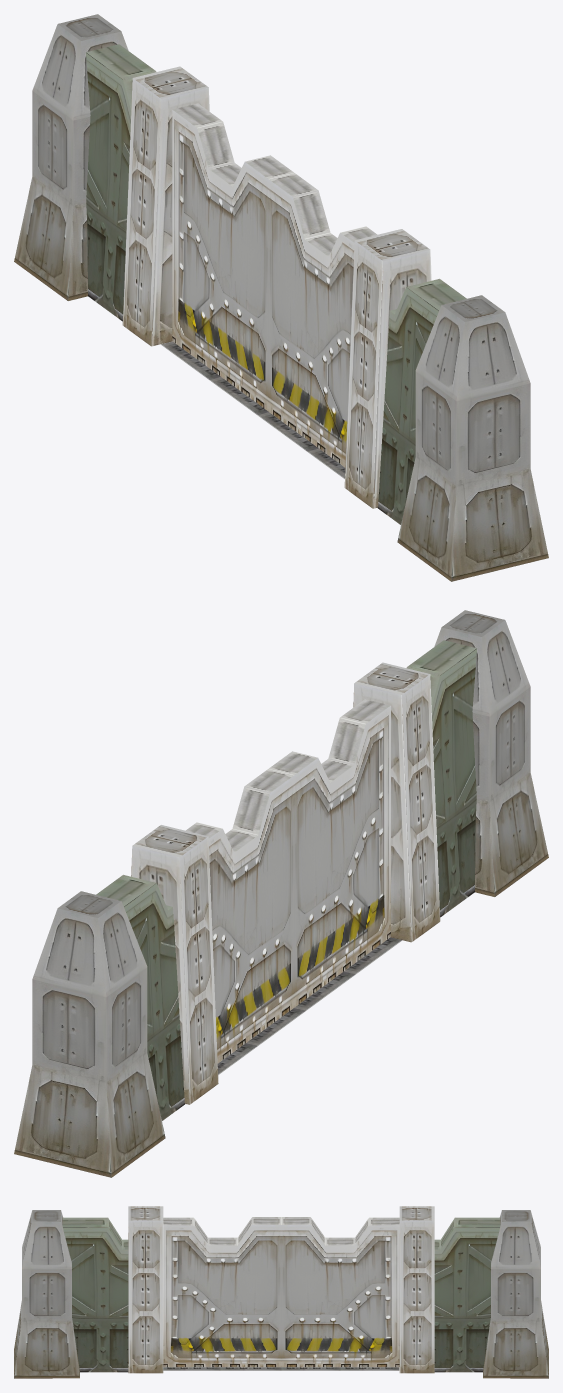
The model's file is l_heavygate_hdtex.glb.
3 views of the same model, one above another, from view 1: azimuth 30°, elevation 25°; view 2: azimuth 150°, elevation 25°; view 3: azimuth 270°, elevation 25° (orthographic). The views are drawn at different scales.
Parts seen in each view (by area): view 1: L_HeavyGate, L_HeavyGateDoor, Gatefloor_PAB; view 2: L_HeavyGate, L_HeavyGateDoor, Gatefloor_PAB; view 3: L_HeavyGate, L_HeavyGateDoor, Gatefloor_PAB.
Boxes of the visible parts, left/top/right/bottom form: L_HeavyGate: left=14, top=14, right=548, bottom=581; L_HeavyGateDoor: left=172, top=103, right=377, bottom=467; Gatefloor_PAB: left=160, top=341, right=345, bottom=479; L_HeavyGate: left=14, top=610, right=548, bottom=1177; L_HeavyGateDoor: left=186, top=699, right=390, bottom=1063; Gatefloor_PAB: left=217, top=937, right=402, bottom=1074; L_HeavyGate: left=14, top=1206, right=548, bottom=1378; L_HeavyGateDoor: left=163, top=1217, right=399, bottom=1367; Gatefloor_PAB: left=163, top=1367, right=399, bottom=1370.
Size of the model in its own units: 7.52 by 18.12 by 58.39.
Materials: 3 (3 with a texture image).
